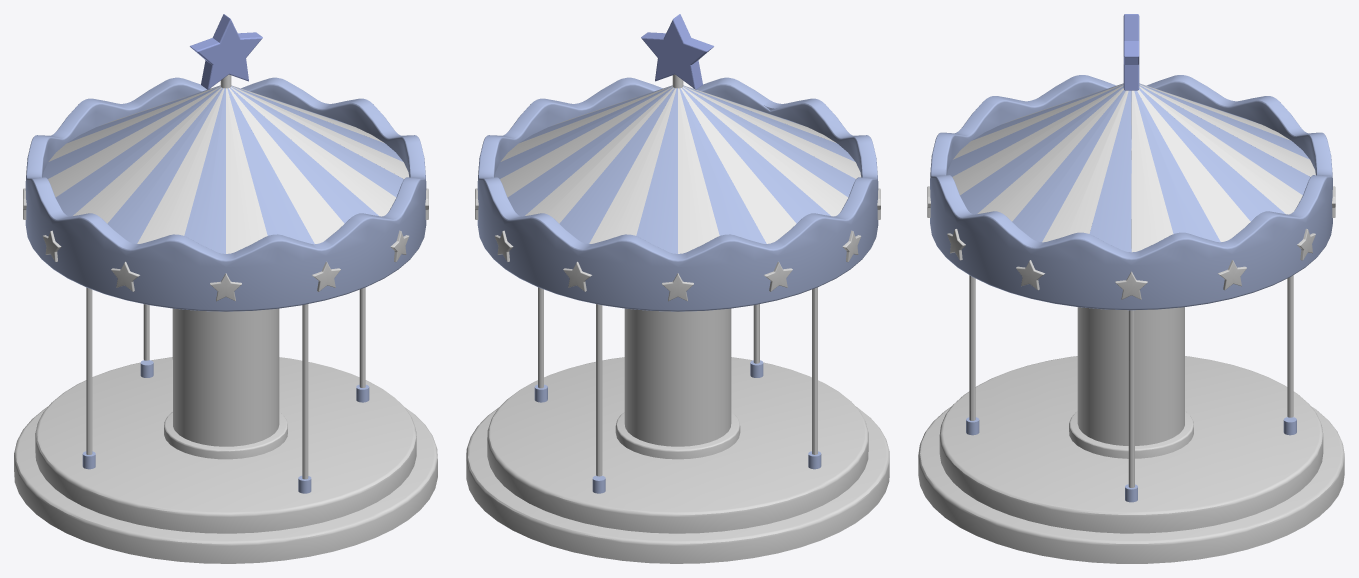
Rendered from Carnival02.glb.
The picture shows the model from 3 angles, left to right: view 1: azimuth 30°, elevation 25°; view 2: azimuth 150°, elevation 25°; view 3: azimuth 270°, elevation 25°; orthographic projection.
Visible parts, largest first — view 1: Carnival01, Carnival02, CarnivalStar1, CarnivalStar2; view 2: Carnival01, Carnival02, CarnivalStar1, CarnivalStar2; view 3: Carnival01, Carnival02, CarnivalStar2, CarnivalStar1.
Boxes of the visible parts, x1,y1,x2,y2 form: Carnival01: (14,287,437,563); Carnival02: (25,74,426,493); CarnivalStar1: (190,14,262,89); CarnivalStar2: (23,188,428,301); Carnival01: (466,287,889,563); Carnival02: (477,74,878,493); CarnivalStar1: (641,14,713,89); CarnivalStar2: (475,188,880,301); Carnival01: (918,148,1344,563); Carnival02: (930,75,1332,502); CarnivalStar2: (927,102,1335,299); CarnivalStar1: (1123,14,1139,90).
Bounding box in the file's own units: 1.8 × 2.14 × 1.8.
